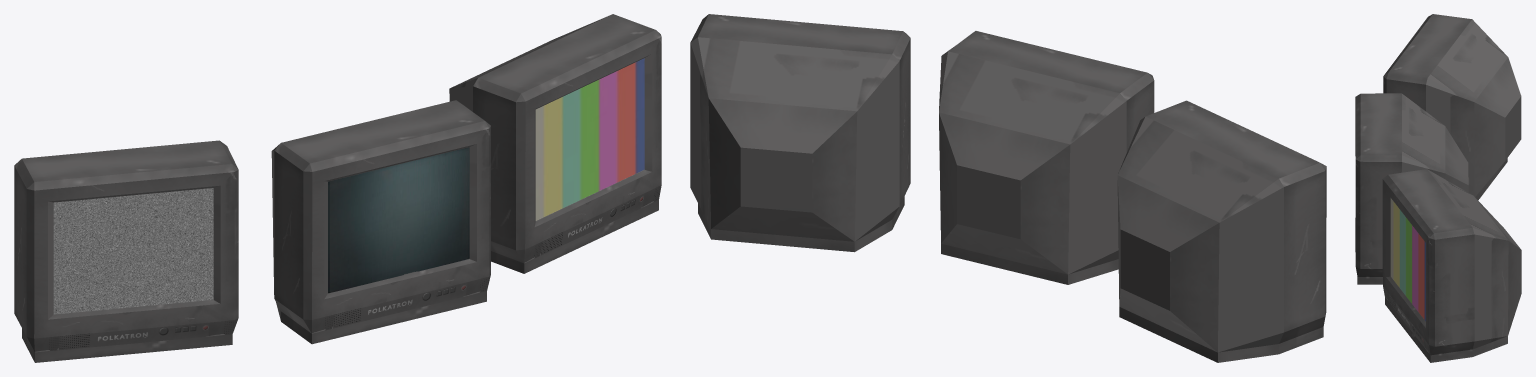
Rendered from Retro_2000_39_s_TV.glb.
3 views of the same model, side by side, from view 1: azimuth 30°, elevation 25°; view 2: azimuth 150°, elevation 25°; view 3: azimuth 270°, elevation 25° (orthographic). The views are drawn at different scales.
Visible parts, largest first — view 1: LowPoly2000'sTV.001_TV_0, LowPoly2000'sTV.003_TV_0, LowPoly2000'sTV.002_TV_0, LowPoly2000'sTV.003_TV.004_0, LowPoly2000'sTV.001_TV.004_0, LowPoly2000'sTV.002_TV.004_0; view 2: LowPoly2000'sTV.002_TV_0, LowPoly2000'sTV.003_TV_0, LowPoly2000'sTV.001_TV_0; view 3: LowPoly2000'sTV.002_TV_0, LowPoly2000'sTV.003_TV_0, LowPoly2000'sTV.001_TV_0, LowPoly2000'sTV.002_TV.004_0.
Boxes of the visible parts, x1,y1,x2,y2 form: LowPoly2000'sTV.001_TV_0: (271, 100, 490, 344); LowPoly2000'sTV.003_TV_0: (14, 140, 238, 362); LowPoly2000'sTV.002_TV_0: (449, 14, 661, 273); LowPoly2000'sTV.003_TV.004_0: (53, 188, 213, 314); LowPoly2000'sTV.001_TV.004_0: (328, 147, 469, 293); LowPoly2000'sTV.002_TV.004_0: (535, 58, 644, 220); LowPoly2000'sTV.002_TV_0: (690, 14, 910, 252); LowPoly2000'sTV.003_TV_0: (1117, 100, 1326, 362); LowPoly2000'sTV.001_TV_0: (939, 31, 1154, 284); LowPoly2000'sTV.002_TV_0: (1382, 169, 1521, 362); LowPoly2000'sTV.003_TV_0: (1383, 14, 1521, 200); LowPoly2000'sTV.001_TV_0: (1355, 93, 1468, 284); LowPoly2000'sTV.002_TV.004_0: (1390, 198, 1425, 321).
Size of the model in its own units: 2.89 by 0.7806 by 0.9102.
2 materials, 2 textured.
